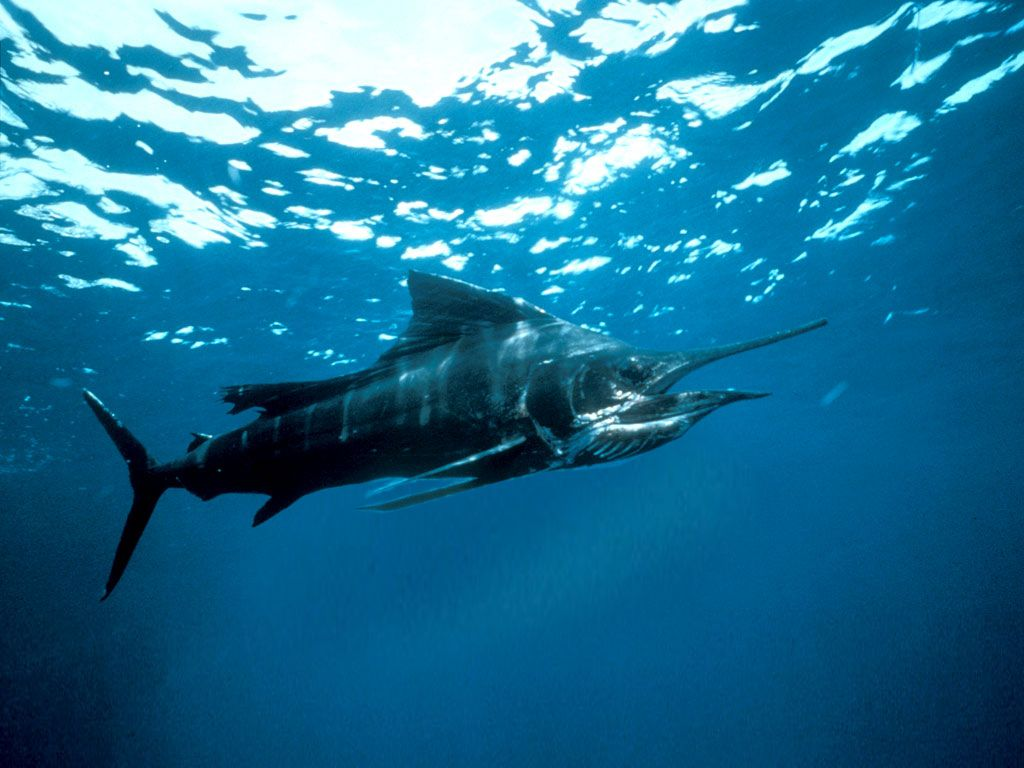swordfish: (57, 250, 847, 610)
